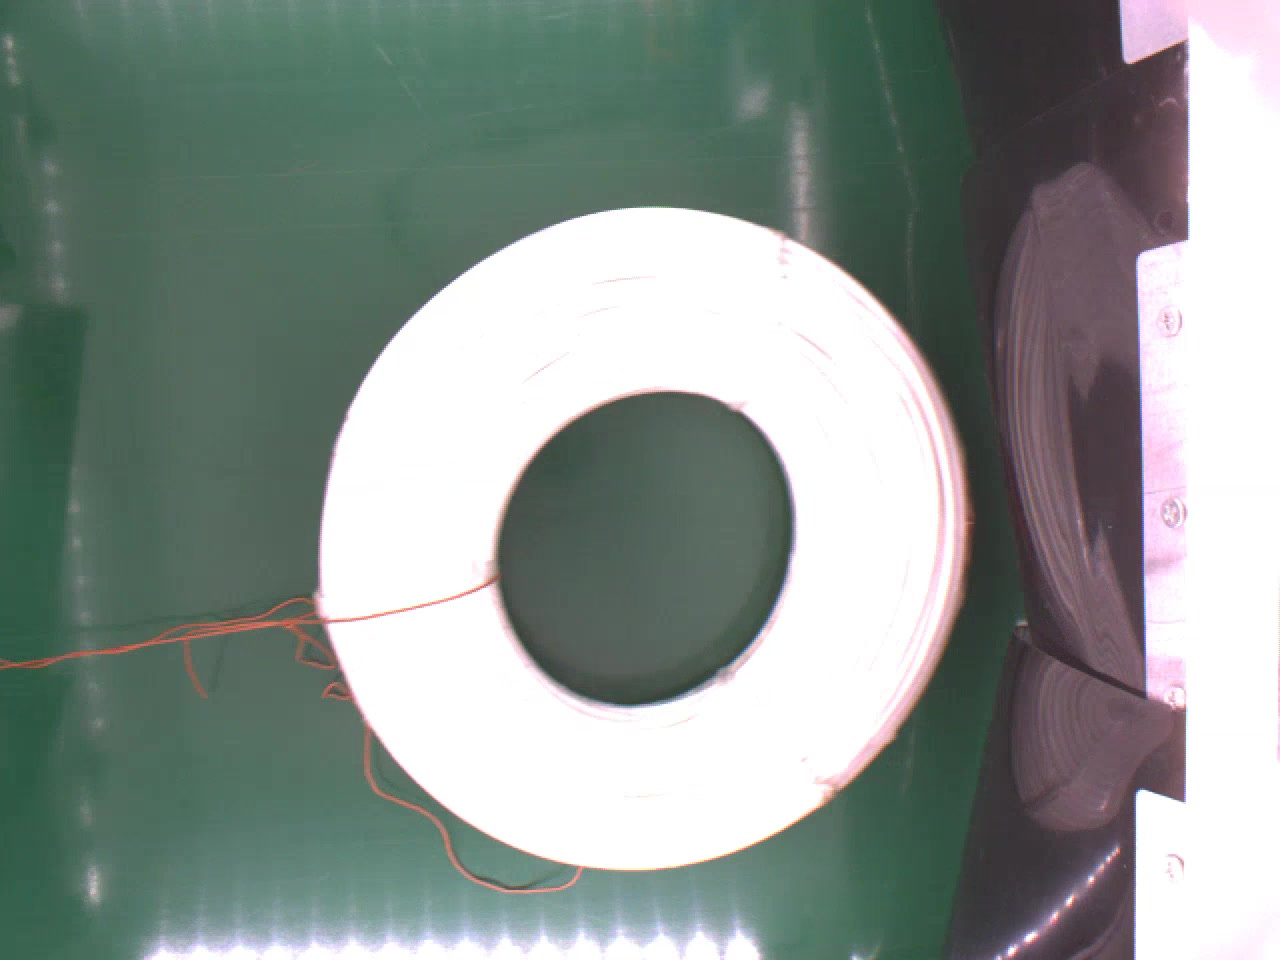white: (314, 200, 979, 871)
